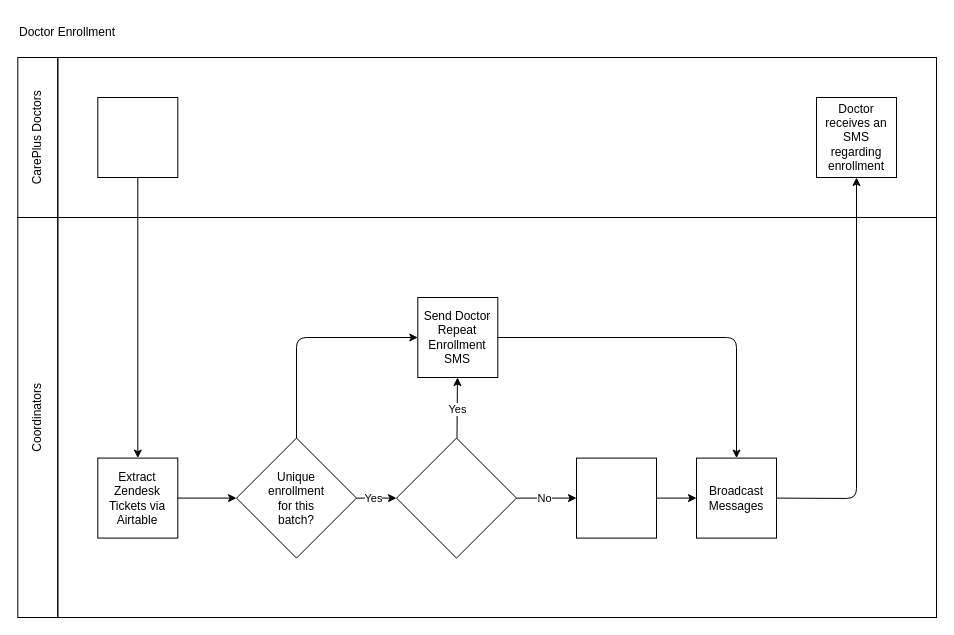
Image size: 954x635. Some labels were removed from this diagram. Each missing label, with the centre of its shape:
"Doctor already enrolled?" belongs at point (456, 497).
"Fill out doctor form on CarePlus website" belongs at point (137, 137).
"Send Doctor Enrollment Approval SMS" belongs at point (616, 497).
